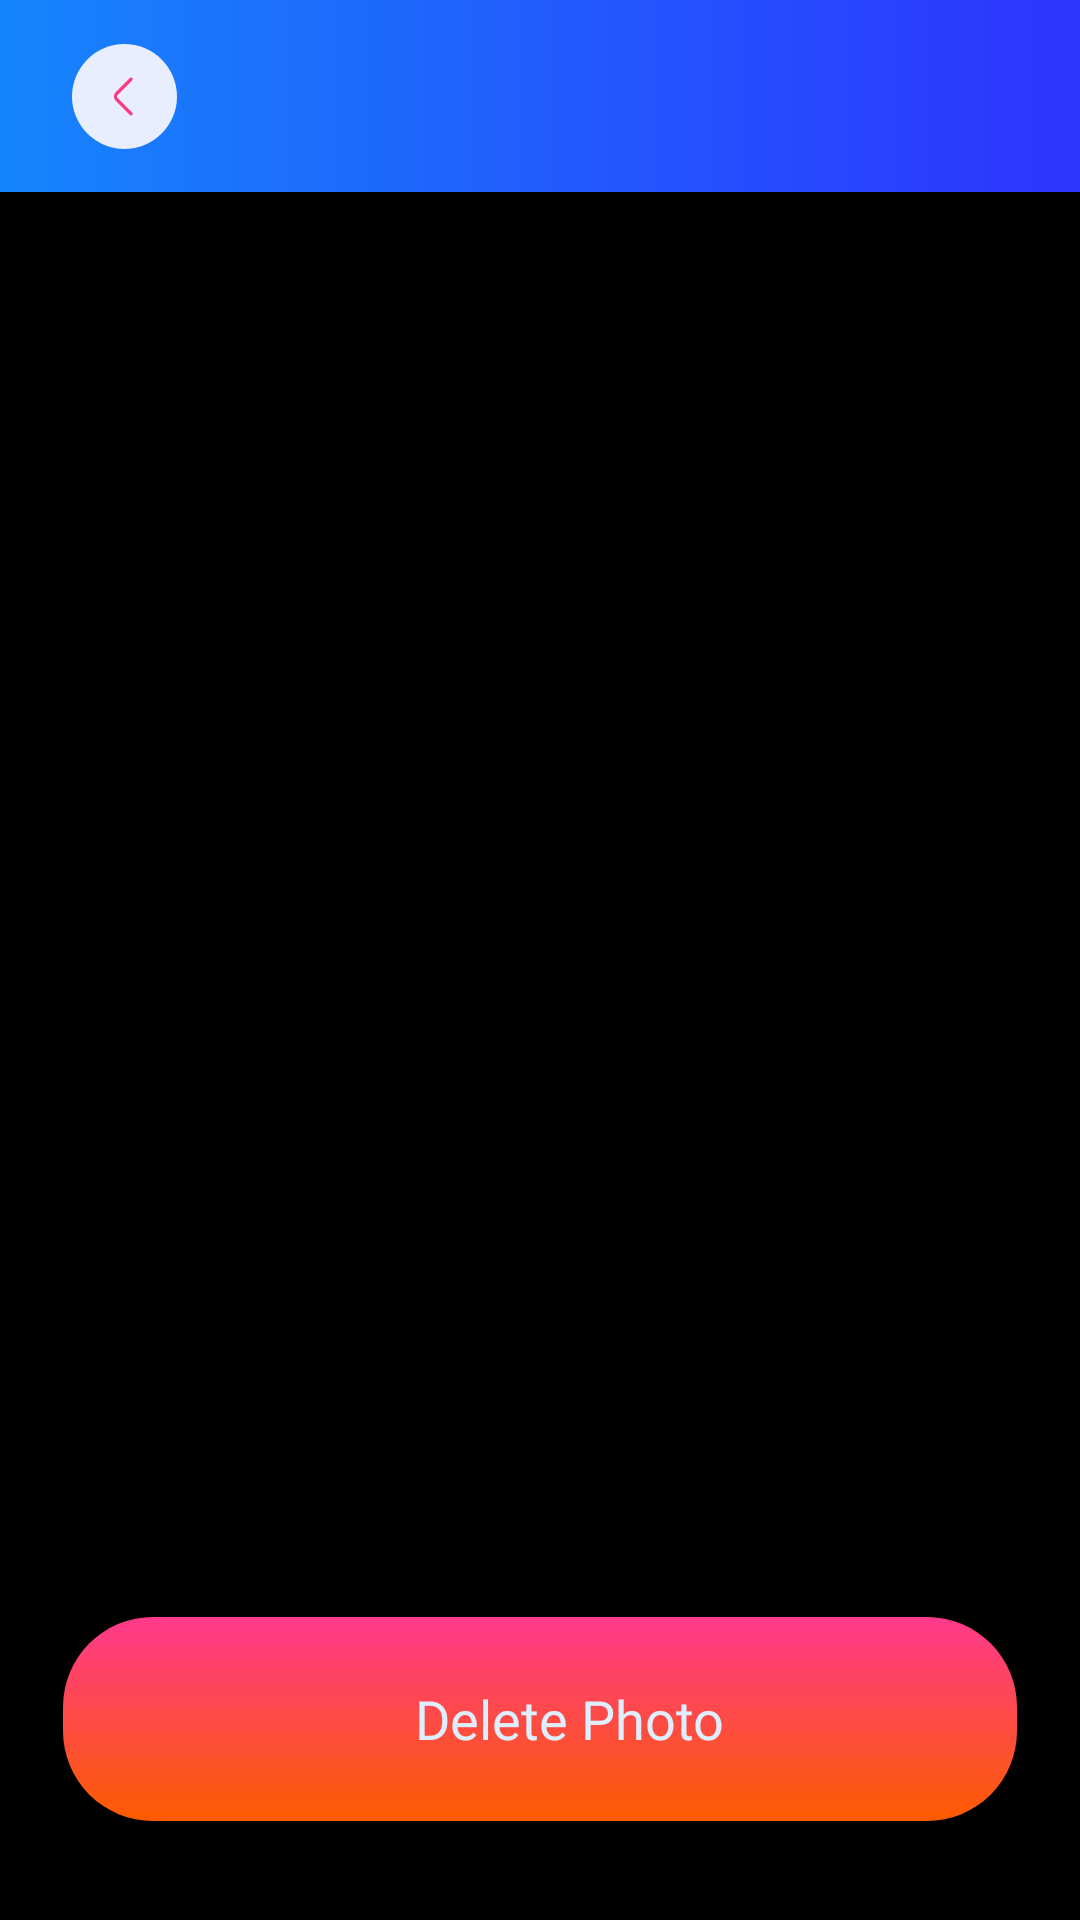

Screen size 1080 x 1920. Icon name, then its center in pixels as (x,y):
back: (124,96)
